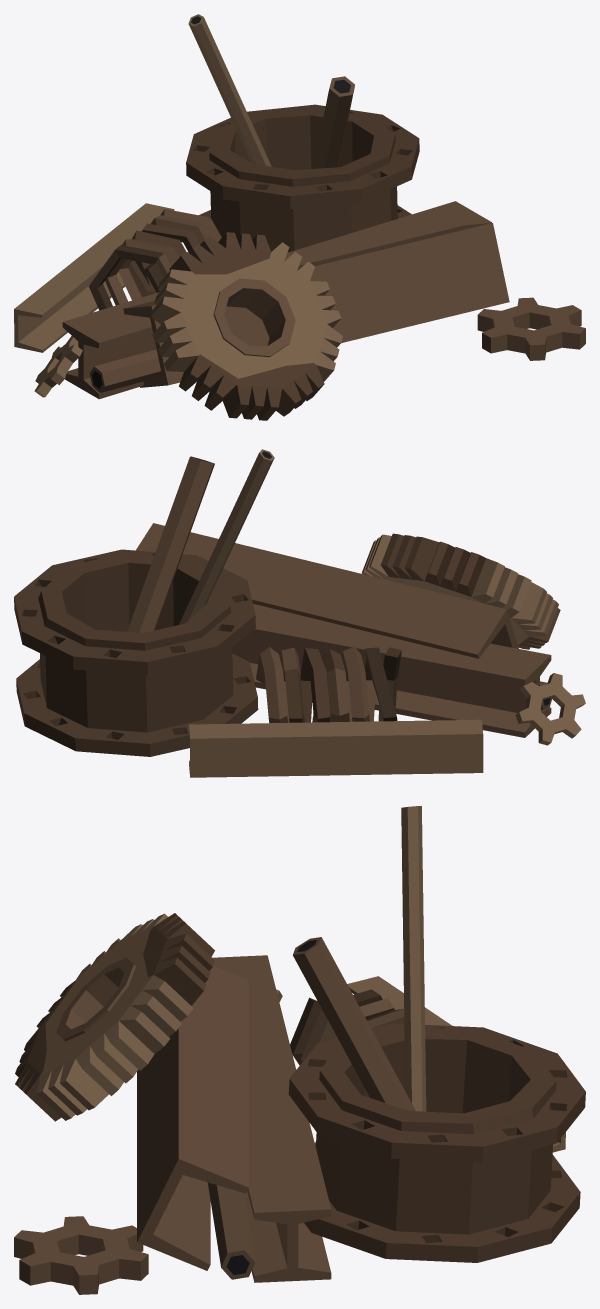
File: SM_Scrap.gltf
3 views of the same model, one above another, from view 1: azimuth 30°, elevation 25°; view 2: azimuth 150°, elevation 25°; view 3: azimuth 270°, elevation 25° (orthographic). The views are drawn at different scales.
Visible parts, largest first — view 1: SM_Scrap; view 2: SM_Scrap; view 3: SM_Scrap.
Boxes of the visible parts, bbox=[...] form: SM_Scrap: bbox=[14, 14, 585, 420]; SM_Scrap: bbox=[14, 449, 585, 777]; SM_Scrap: bbox=[14, 806, 585, 1294].
Bounding box in the file's own units: 1.31 × 0.72 × 1.08.
Materials: 1 (1 with a texture image).
